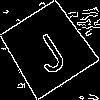J: (23, 23, 70, 77)
